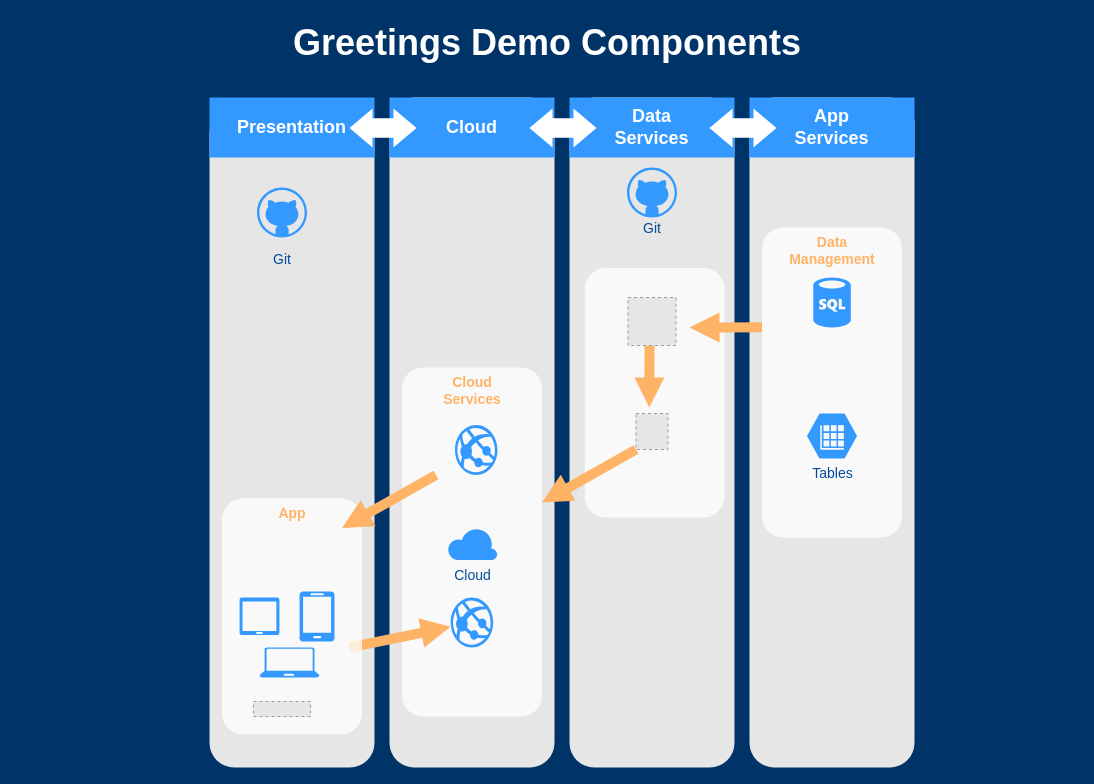
The diagram is 1094 pixels wide and 784 high, and some of its shapes have lost their labels. Grey dashed boxes stand in for pictures. Here are the shapes that lost their labels. From the top down, the box of each, then its label:
(813, 277, 850, 327): SQL Database
(584, 268, 724, 517): Web Api
(454, 424, 497, 474): Azure Web Api
(450, 597, 493, 647): Azure Website
(259, 647, 319, 677): App (Angular V12)
